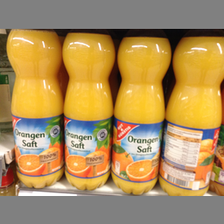juice: (160, 32, 224, 196), (111, 34, 172, 193), (6, 30, 64, 188), (61, 30, 115, 190)
